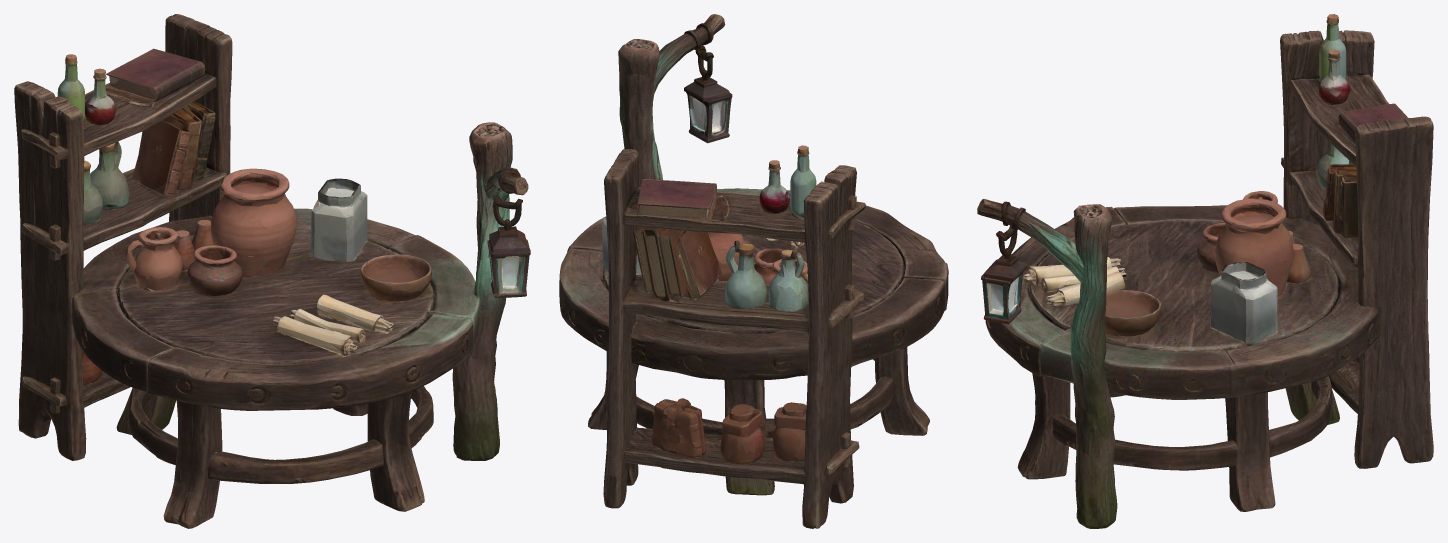
File: hf_interior.glb
3 renders of one model, left to right at view 1: azimuth 30°, elevation 25°; view 2: azimuth 150°, elevation 25°; view 3: azimuth 270°, elevation 25°, orthographic. The views are drawn at different scales.
Bounding box in the file's own units: 1.69 × 1.7 × 1.9.
1 material, 1 textured.
